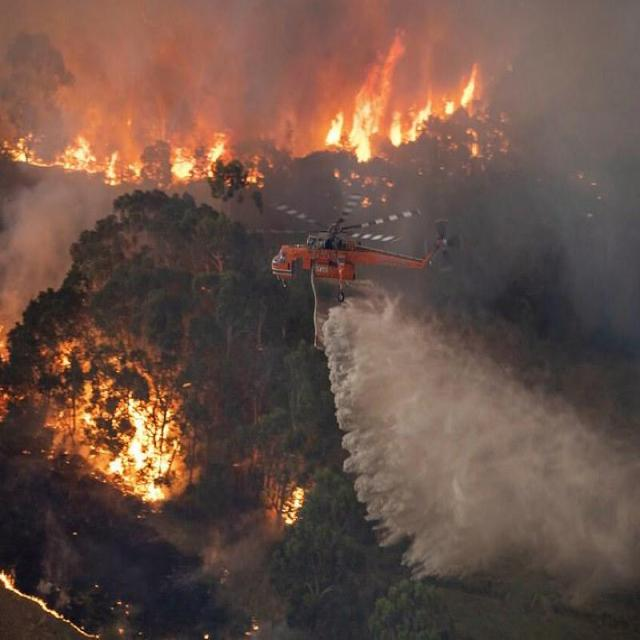Fire: (312, 26, 510, 165), (49, 332, 194, 508), (2, 124, 270, 188), (1, 564, 102, 639), (279, 484, 307, 528)
